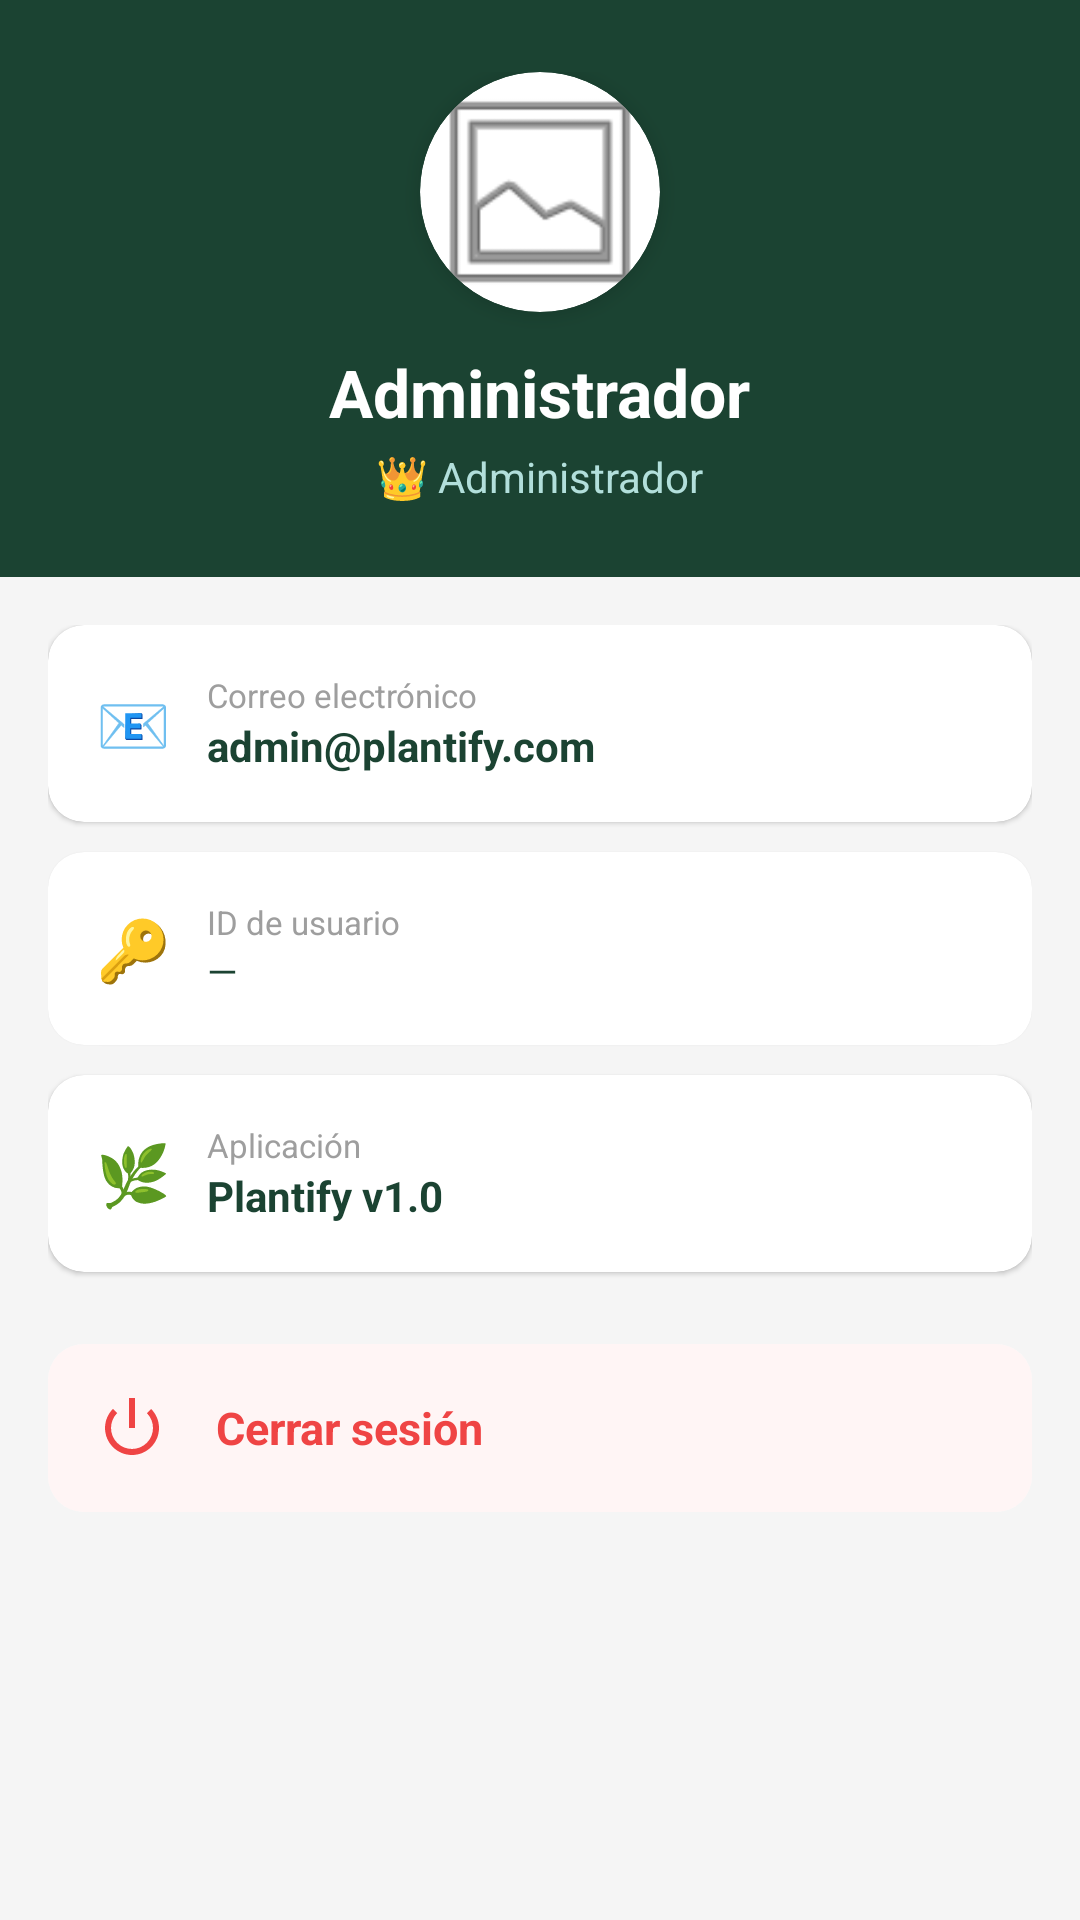

Icon click points for this 1080 × 1920 phone screenshot, format point (x, y):
gallery: point (540, 192)
lock power off: point (132, 1426)
